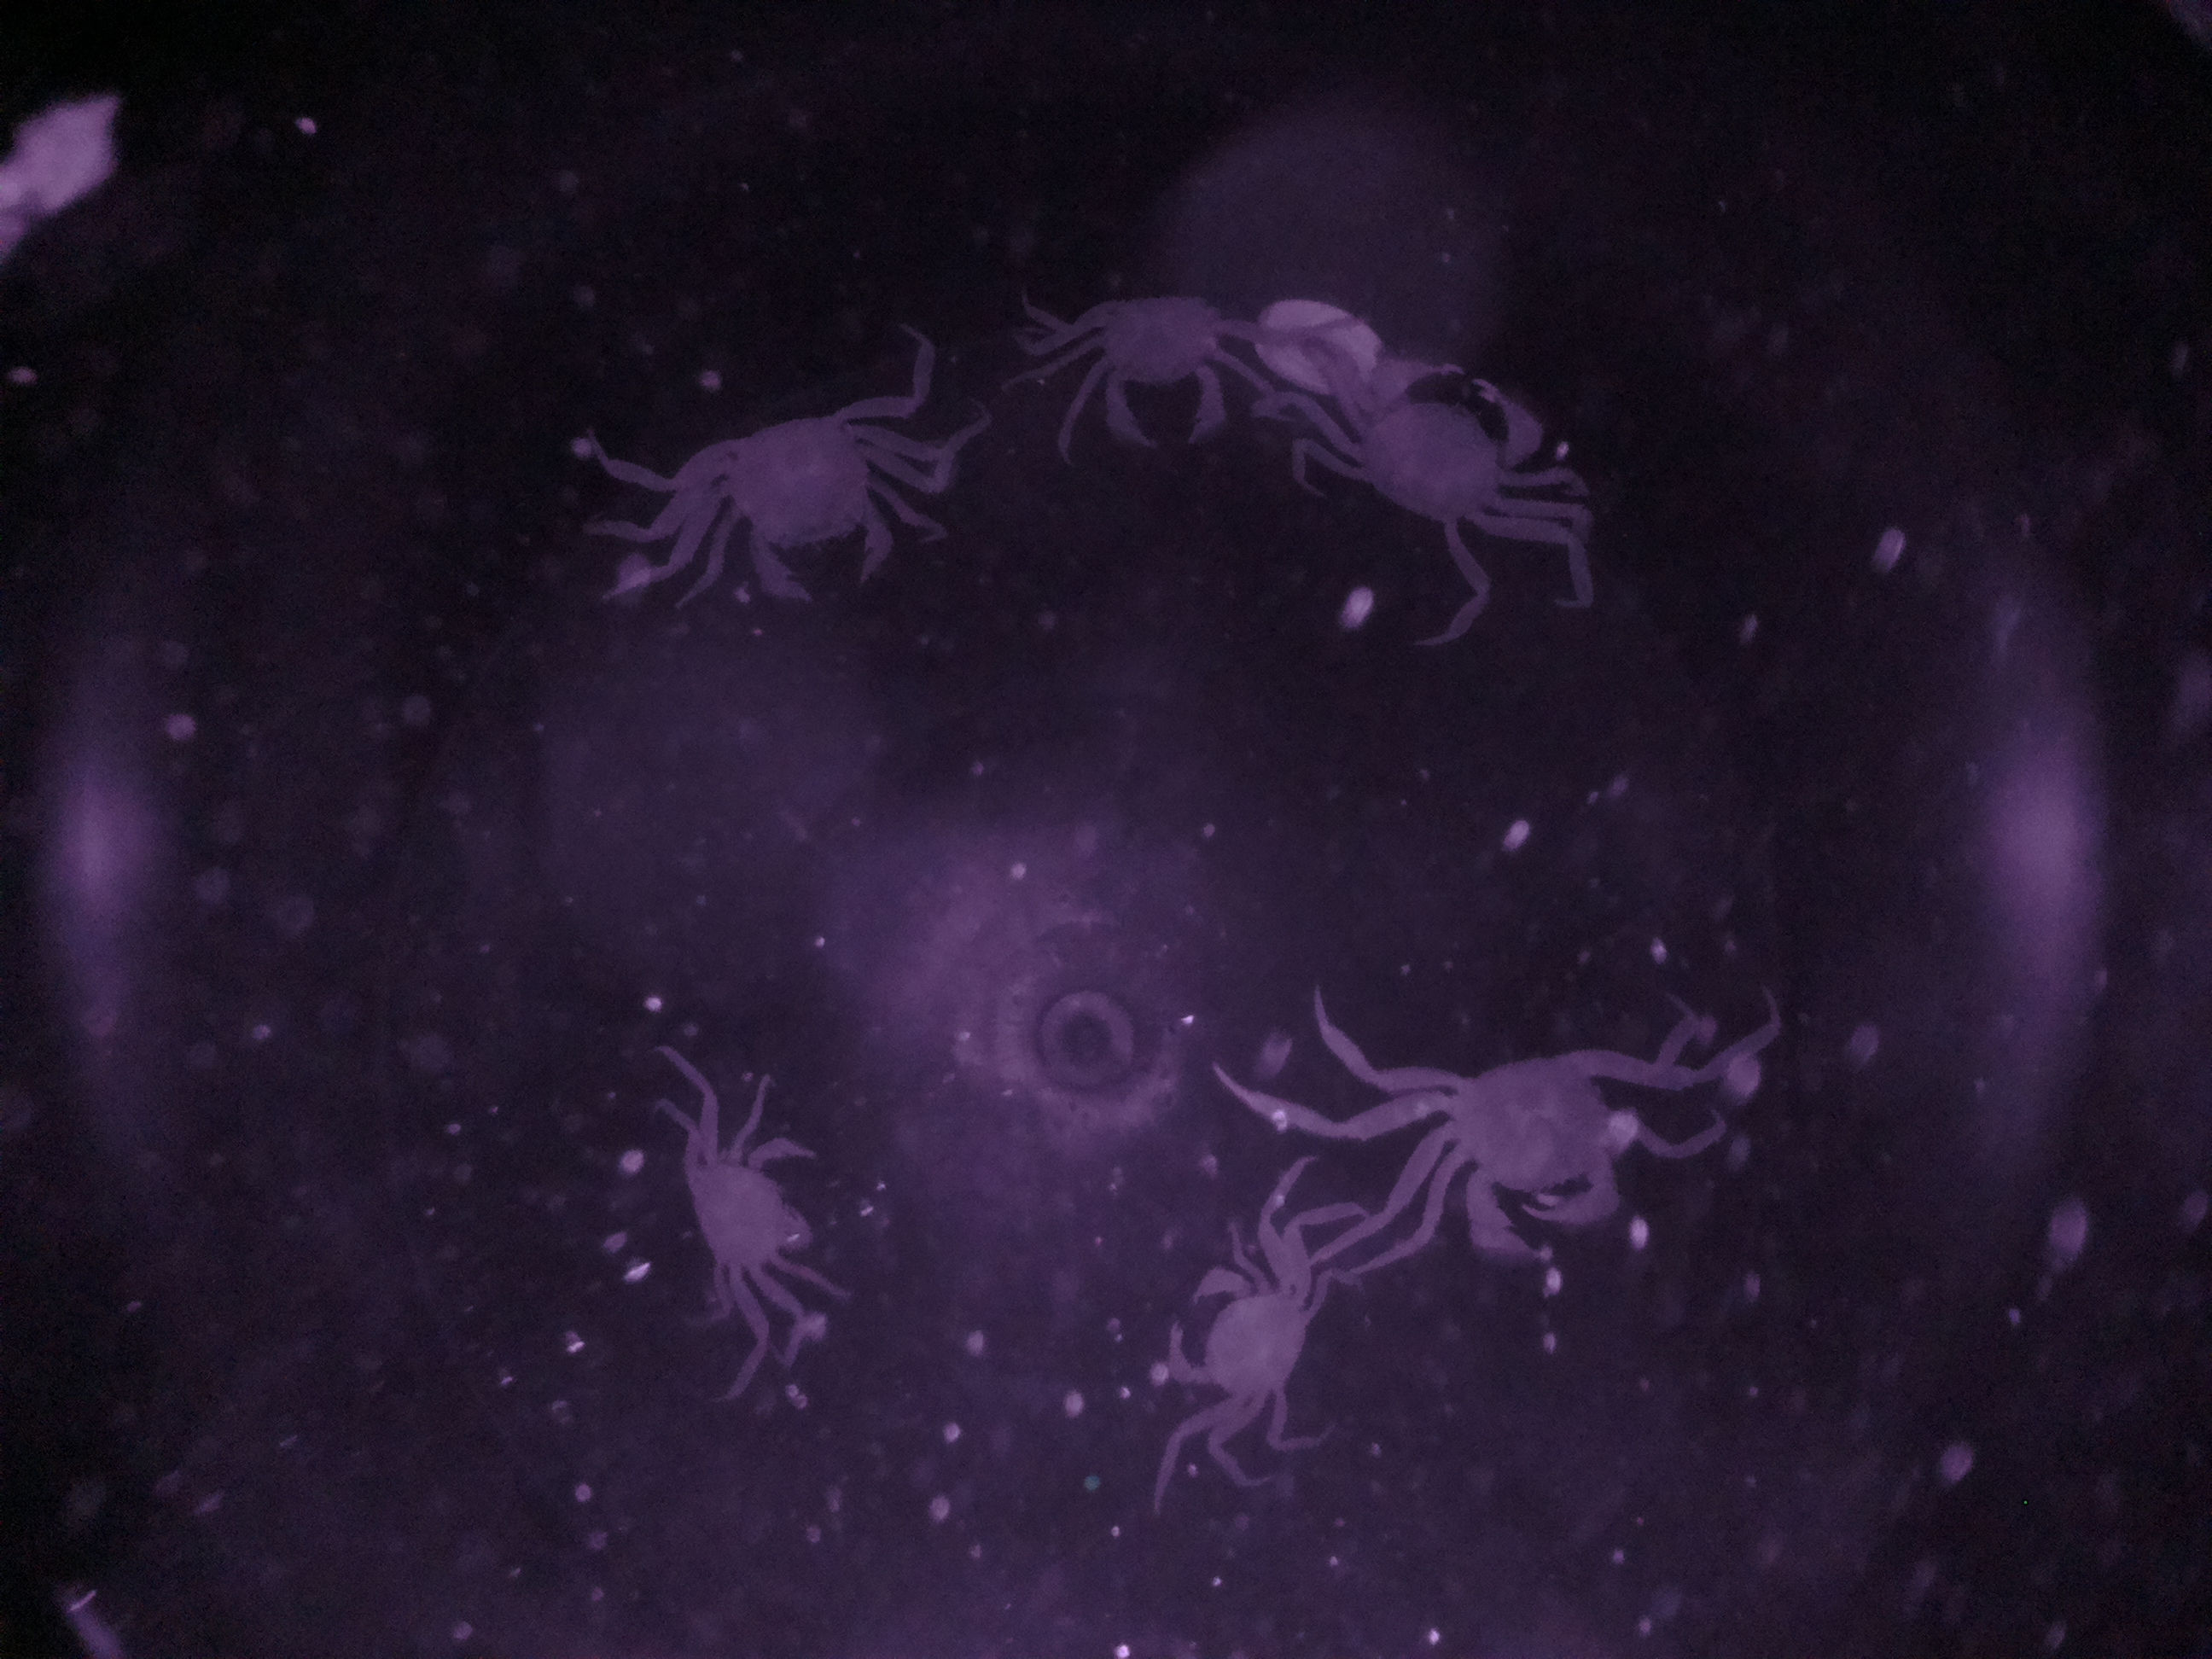Crab: (1374, 1023, 1663, 1281), (669, 371, 913, 624), (1325, 343, 1585, 547), (1036, 274, 1263, 477), (660, 1100, 853, 1316), (1143, 1237, 1338, 1436)
